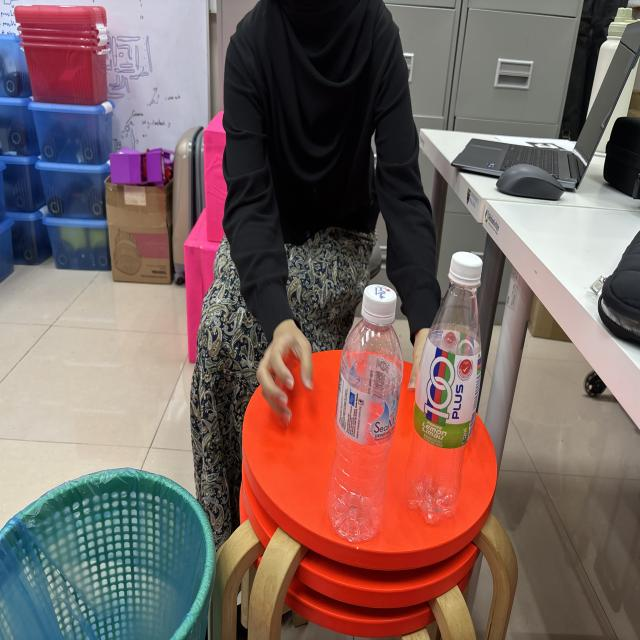dustbin: (0, 460, 220, 640)
plastic_bottle: (324, 270, 407, 549), (411, 246, 486, 528)
